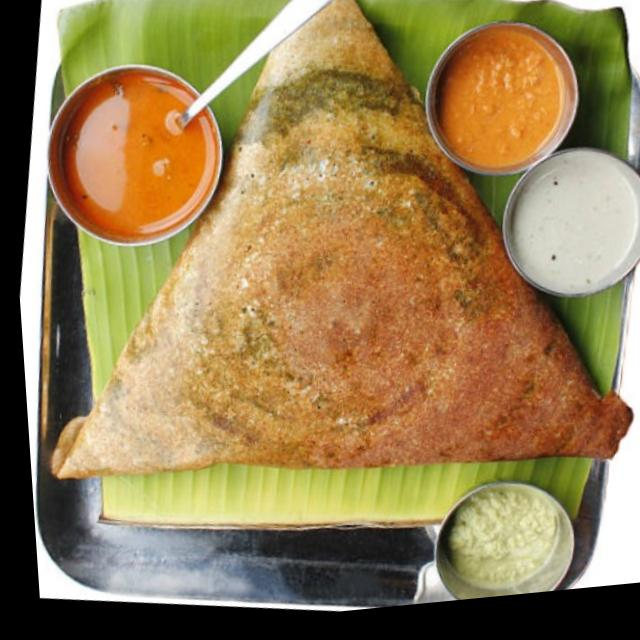CURD: (505, 150, 640, 292)
DOSA: (53, 0, 629, 477)
RED CHUTNEY: (426, 22, 578, 175)
SAMBAR: (50, 66, 221, 242)
WHITE CHUTNEY: (436, 482, 573, 600)
